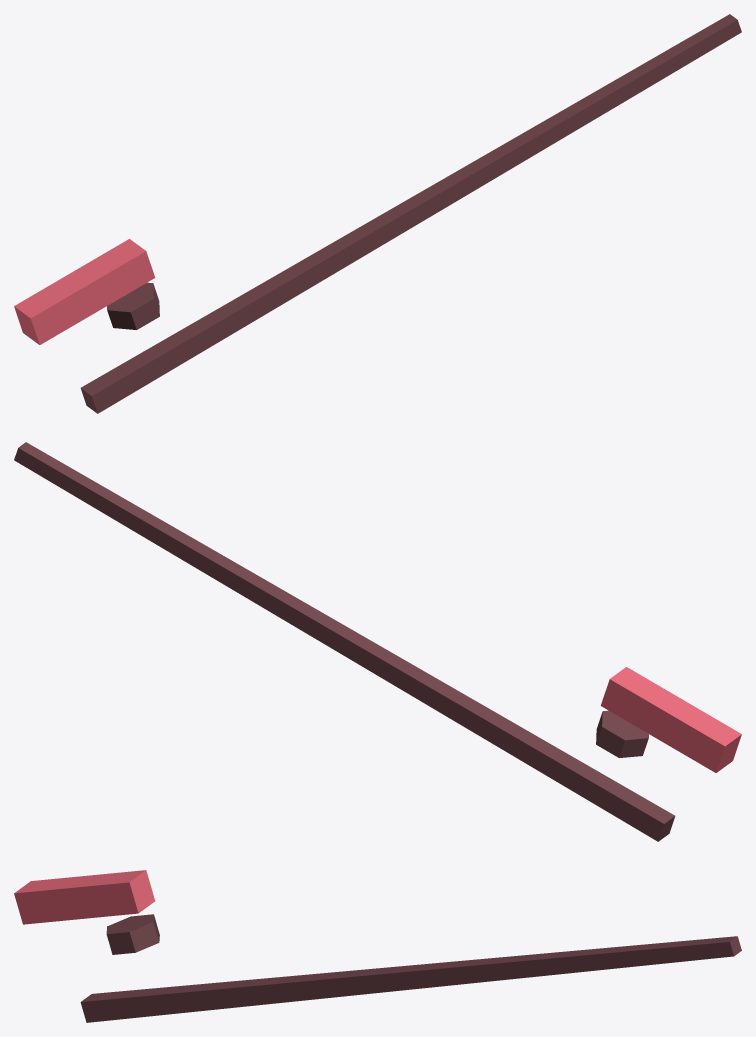
File: rod.glb
The picture shows the model from 3 angles, top to bottom: view 1: azimuth 30°, elevation 25°; view 2: azimuth 150°, elevation 25°; view 3: azimuth 330°, elevation 25°; orthographic projection.
Visible parts, largest first — view 1: Rod, Grip, Reel; view 2: Rod, Grip, Reel; view 3: Rod, Grip, Reel.
Boxes of the visible parts, x1,y1,x2,y2 form: Rod: (80,14,741,413); Grip: (14,239,155,344); Reel: (107,282,159,329); Rod: (14,442,675,841); Grip: (600,667,741,772); Reel: (596,710,648,757); Rod: (80,936,741,1022); Grip: (14,870,154,924); Reel: (106,914,159,954).
Bounding box in the file's own units: 2.95 × 0.9299 × 0.1732.
